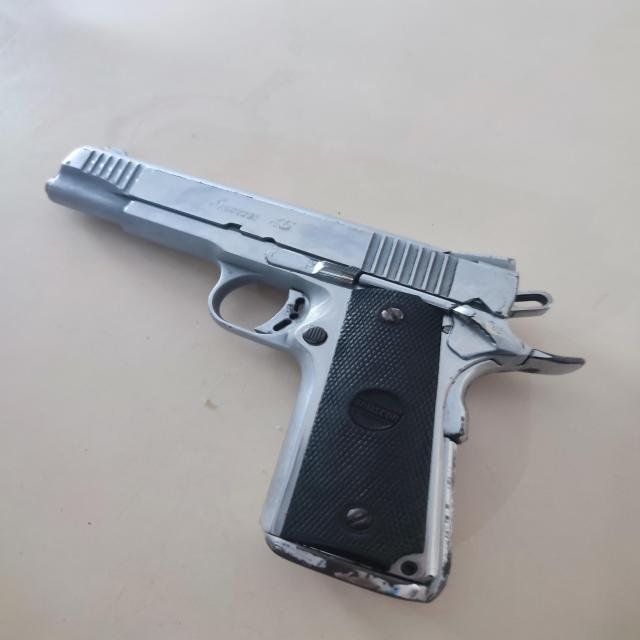pistol: (46, 146, 584, 600)
